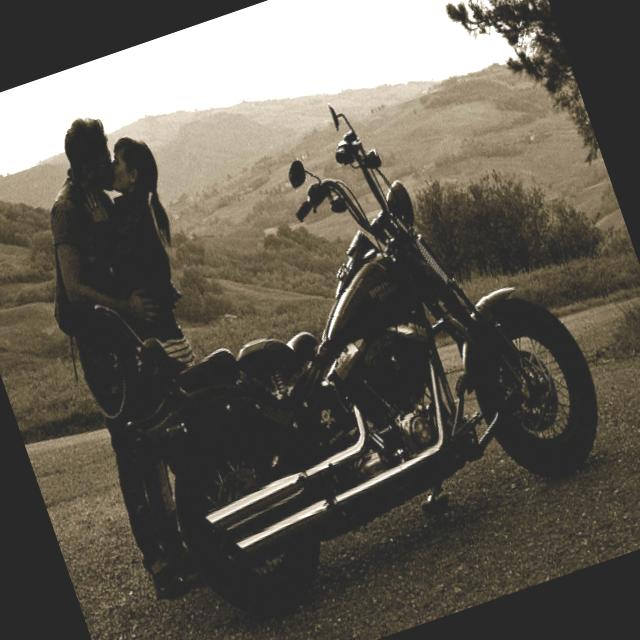Vehicle: (67, 60, 635, 640)
